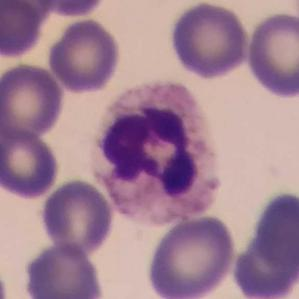Neutrophil: (85, 72, 227, 233)
RBC: (142, 212, 238, 299), (166, 0, 251, 79), (38, 176, 116, 258), (45, 16, 124, 94), (0, 60, 66, 140), (20, 240, 107, 299), (243, 10, 299, 100), (227, 233, 299, 299), (0, 126, 63, 201), (252, 186, 299, 268), (0, 0, 45, 60), (0, 1, 57, 27), (32, 0, 109, 18)
